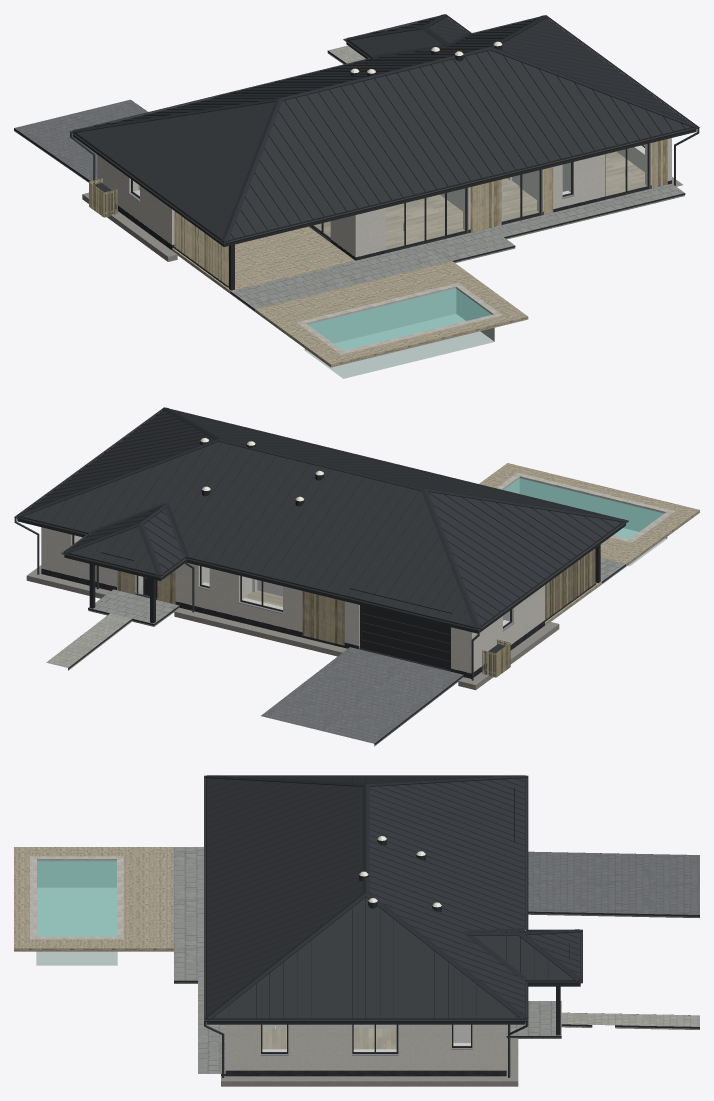
Rendered from house-lite.glb.
The picture shows the model from 3 angles, top to bottom: view 1: azimuth 30°, elevation 25°; view 2: azimuth 150°, elevation 25°; view 3: azimuth 270°, elevation 25°; orthographic projection. The views are drawn at different scales.
Parts seen in each view (by area): view 1: roof_tile, deck_O8, pool_liner_O9, plaster, terrace_paving_O2, water_O9, ridge_cap, deck_O1, fascia, drive_paving_O4, gutter, floor_oak_R04 (+16 smaller); view 2: roof_tile, drive_paving_O4, plaster, ridge_cap, fascia, garage_door_G01, gutter, gravel, deck_O8, pool_liner_O9, water_O9, slab (+11 smaller); view 3: roof_tile, drive_paving_O4, plaster, deck_O8, pool_liner_O9, water_O9, ridge_cap, terrace_paving_O2, gutter, gravel, fascia, slab (+10 smaller).
Part boxes in pixels (<box>): roof_tile: <box>76,17,690,239</box>; deck_O8: <box>255,261,528,367</box>; pool_liner_O9: <box>304,287,494,378</box>; plaster: <box>97,138,671,257</box>; terrace_paving_O2: <box>230,228,515,311</box>; water_O9: <box>308,288,491,350</box>; ridge_cap: <box>73,14,696,242</box>; deck_O1: <box>172,226,355,293</box>; fascia: <box>72,15,696,246</box>; drive_paving_O4: <box>14,99,147,182</box>; gutter: <box>69,14,699,244</box>; floor_oak_R04: <box>314,194,464,249</box>; roof_tile: <box>23,410,621,626</box>; drive_paving_O4: <box>261,647,463,746</box>; plaster: <box>41,527,544,673</box>; ridge_cap: <box>17,407,625,628</box>; fascia: <box>17,409,625,633</box>; garage_door_G01: <box>361,605,450,669</box>; gutter: <box>14,407,628,680</box>; gravel: <box>26,565,559,690</box>; deck_O8: <box>479,463,699,566</box>; pool_liner_O9: <box>503,477,667,566</box>; water_O9: <box>504,478,663,538</box>; slab: <box>41,568,544,678</box>; roof_tile: <box>207,776,579,1018</box>; drive_paving_O4: <box>528,851,699,917</box>; plaster: <box>225,1024,506,1070</box>; deck_O8: <box>14,847,173,951</box>; pool_liner_O9: <box>36,860,117,965</box>; water_O9: <box>37,861,116,936</box>; ridge_cap: <box>205,775,582,1020</box>; terrace_paving_O2: <box>174,847,203,983</box>; gutter: <box>204,775,582,1077</box>; gravel: <box>221,1038,518,1086</box>; fascia: <box>206,775,580,1024</box>; slab: <box>225,1070,506,1076</box>.
Bounding box in the file's own units: 25.38 × 7.49 × 30.
Materials: 30 (13 with a texture image).
